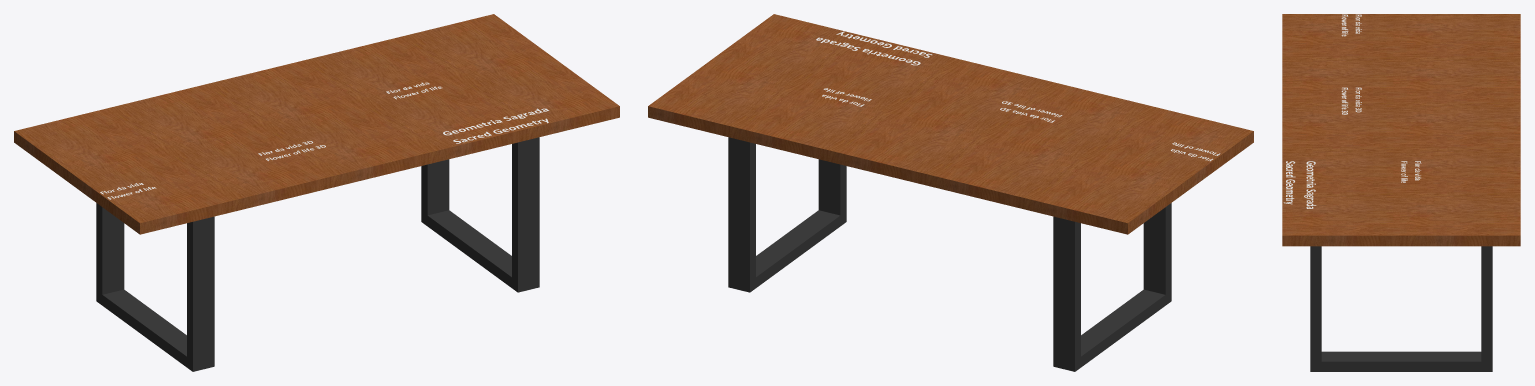
File: geomSagrada3.glb
3 renders of one model, left to right at view 1: azimuth 30°, elevation 25°; view 2: azimuth 150°, elevation 25°; view 3: azimuth 270°, elevation 25°, orthographic. The views are drawn at different scales.
Parts seen in each view (by area): view 1: object 1, Composant#1 (×2), Geometria Sagrad; view 2: object 1, Composant#1 (×2), Geometria Sagrad; view 3: object 1, Composant#1, Geometria Sagrad, Flor da vida 3D.
Part boxes in pixels (box(x1,y1,x2,y2)): object 1: box(14, 14, 619, 234); Composant#1 (×2): box(96, 137, 539, 371); Geometria Sagrad: box(443, 108, 548, 143); object 1: box(648, 14, 1253, 234); Composant#1 (×2): box(728, 137, 1171, 371); Geometria Sagrad: box(816, 31, 932, 65); object 1: box(1282, 14, 1520, 246); Composant#1: box(1310, 246, 1492, 371); Geometria Sagrad: box(1283, 161, 1316, 208); Flor da vida 3D: box(1341, 87, 1361, 114).
Bounding box in the file's own units: 2.2 × 0.7711 × 1.
3 materials, 1 textured.
